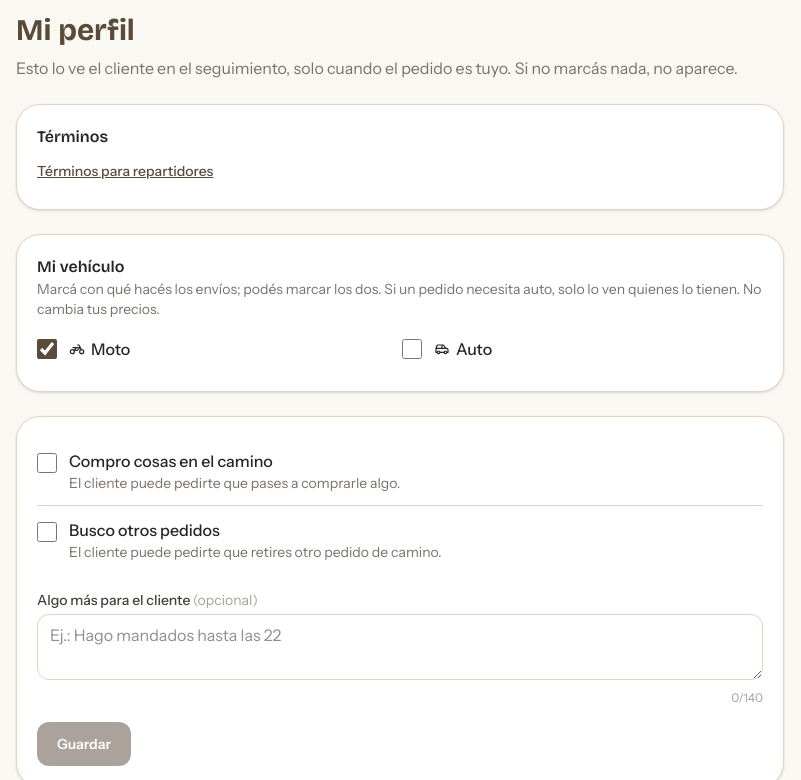
el vehículo en Mi perfil › no deja sin ningún vehículo: no guarda y avisa
The width and height of the screenshot is (801, 780).
Click the checkbox labelled "Moto". click: (47, 349)
box: [37,339,57,359]
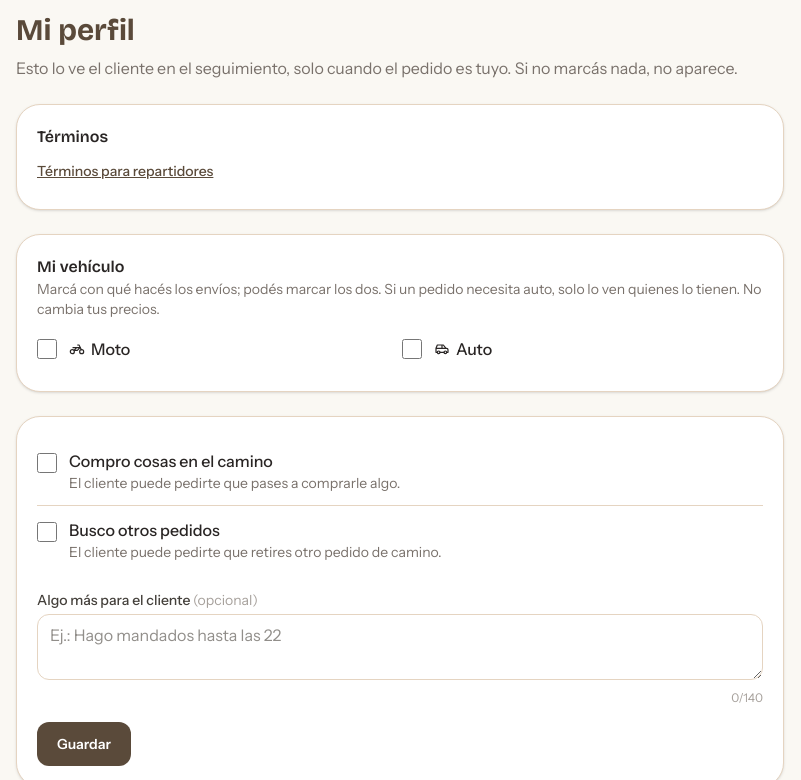
Click the button "Guardar". click: (84, 744)
box: [37,722,131,766]
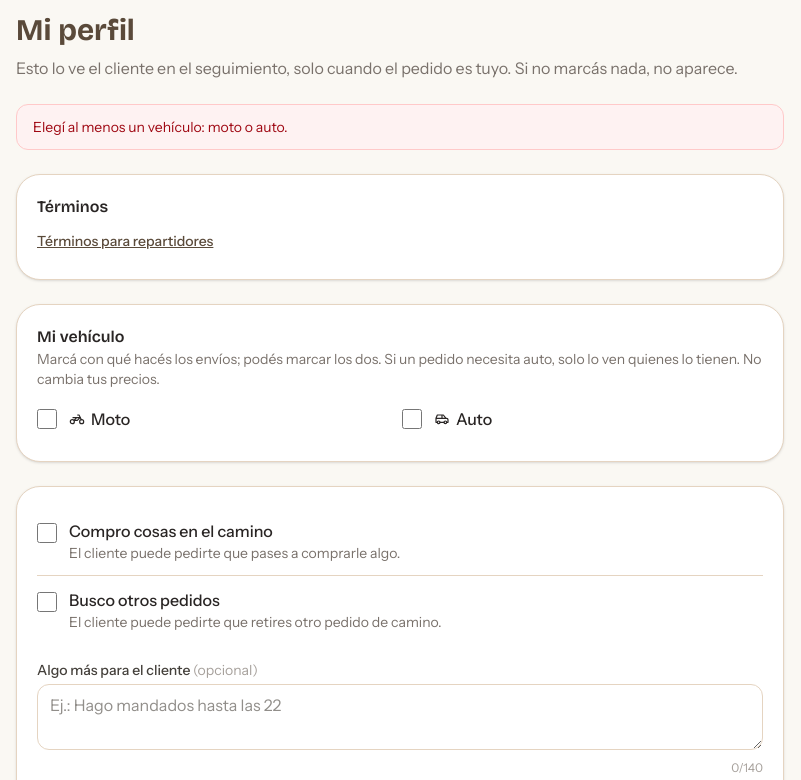
Result: the message shows "al menos un vehículo" at [33,118,288,136]
